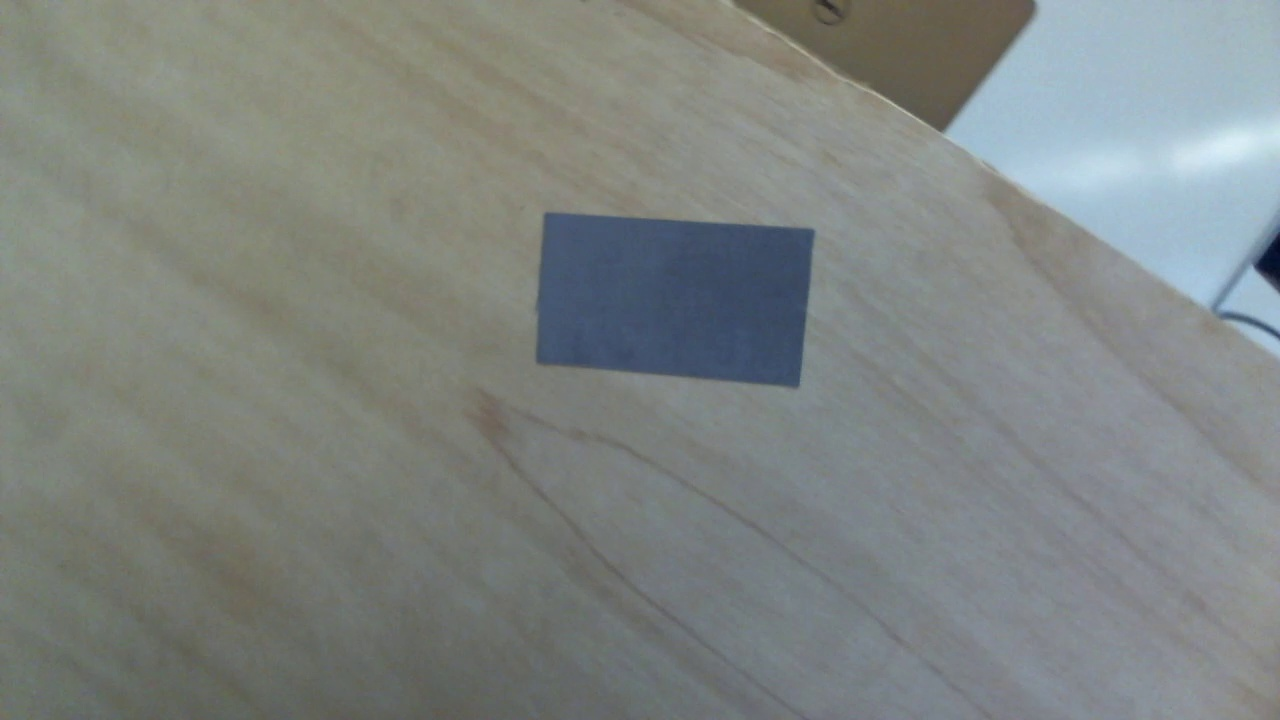Tape: (536, 211, 815, 389)
